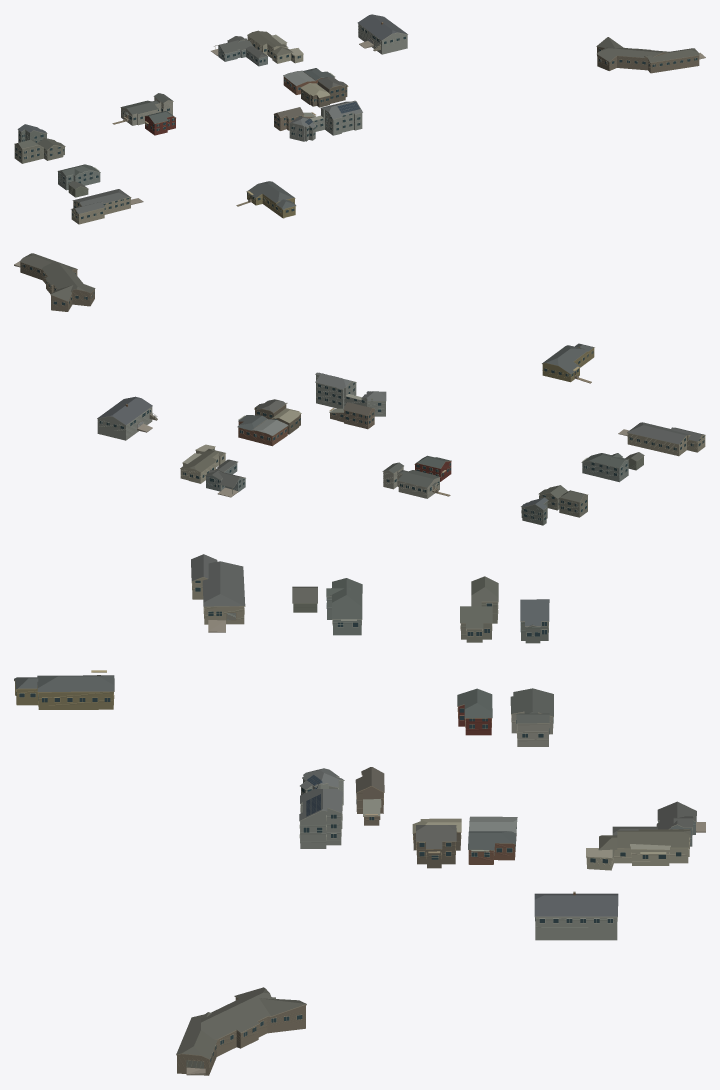
File: site.glb
3 renders of one model, top to bottom at view 1: azimuth 30°, elevation 25°; view 2: azimuth 150°, elevation 25°; view 3: azimuth 270°, elevation 25°, orthographic. The views are drawn at different scales.
Visible parts, largest first — view 1: roof-31f27b04, orchard-1994, roof-28a8e5f0, roof-a53a0c57, roof-b23b2dec, orchard-1966, roof-6133a11a, roof-b315719c, roof-2cb36f2e, east-nineteenth-1978, roof-d4f7e70c, roof-29aaebb6 (+3 smaller); view 2: roof-31f27b04, roof-a53a0c57, orchard-1994, roof-28a8e5f0, roof-2cb36f2e, roof-b23b2dec, roof-29aaebb6, roof-6133a11a, roof-d4f7e70c, roof-b315719c, east-nineteenth-1978, orchard-1966 (+3 smaller); view 3: roof-31f27b04, roof-28a8e5f0, roof-6133a11a, roof-b23b2dec, orchard-1994, roof-a53a0c57, roof-2cb36f2e, roof-29aaebb6, orchard-1966, roof-b315719c, roof-d4f7e70c, villard-1963 (+3 smaller).
Part boxes in pixels (x1,y1,x2,y2): roof-31f27b04: [596, 37, 699, 73]; orchard-1994: [289, 100, 362, 141]; roof-28a8e5f0: [357, 14, 407, 54]; roof-a53a0c57: [71, 189, 131, 224]; roof-b23b2dec: [246, 181, 296, 218]; orchard-1966: [300, 77, 348, 107]; roof-6133a11a: [247, 30, 303, 63]; roof-b315719c: [14, 138, 65, 163]; roof-2cb36f2e: [120, 93, 173, 125]; east-nineteenth-1978: [214, 36, 268, 66]; roof-d4f7e70c: [57, 164, 100, 190]; roof-29aaebb6: [283, 68, 335, 94]; roof-31f27b04: [19, 253, 95, 311]; roof-a53a0c57: [627, 422, 705, 456]; orchard-1994: [315, 372, 386, 416]; roof-28a8e5f0: [97, 396, 157, 440]; roof-2cb36f2e: [382, 462, 440, 498]; roof-b23b2dec: [542, 343, 594, 382]; roof-29aaebb6: [237, 415, 288, 446]; roof-6133a11a: [180, 444, 225, 483]; roof-d4f7e70c: [581, 453, 629, 482]; roof-b315719c: [538, 485, 588, 517]; east-nineteenth-1978: [205, 459, 245, 494]; orchard-1966: [254, 399, 301, 434]; roof-31f27b04: [176, 987, 306, 1075]; roof-28a8e5f0: [534, 891, 618, 940]; roof-6133a11a: [586, 829, 690, 870]; roof-b23b2dec: [14, 670, 114, 709]; orchard-1994: [299, 768, 344, 848]; roof-a53a0c57: [191, 554, 245, 624]; roof-2cb36f2e: [510, 688, 553, 746]; roof-29aaebb6: [468, 816, 517, 864]; orchard-1966: [412, 818, 461, 868]; roof-b315719c: [460, 576, 498, 642]; roof-d4f7e70c: [326, 578, 362, 635]; villard-1963: [457, 688, 492, 735].
Bounding box in the file's own units: 316 × 15.96 × 176.
